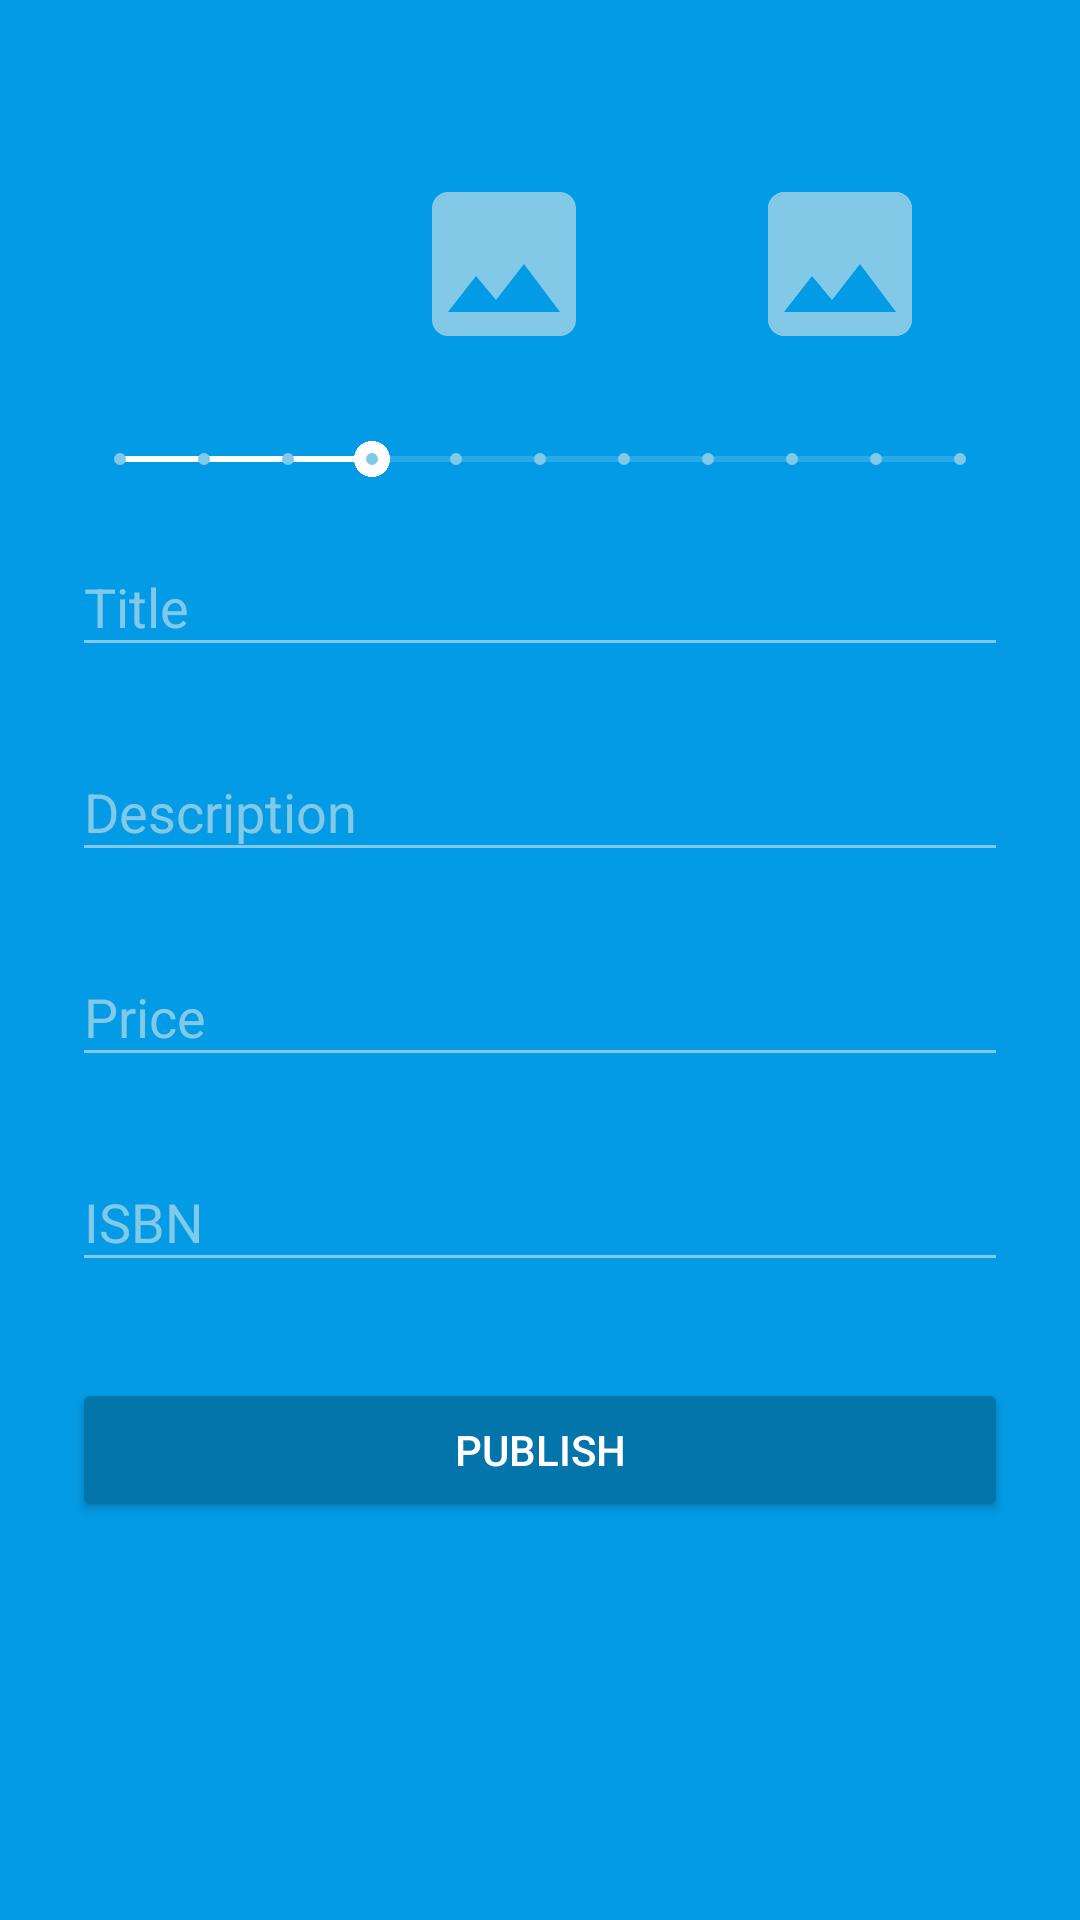

Icons on this 1080 x 1920 Android screen, each with the point to tap as point (x, y):
photo: point (504, 264), point (840, 264)
